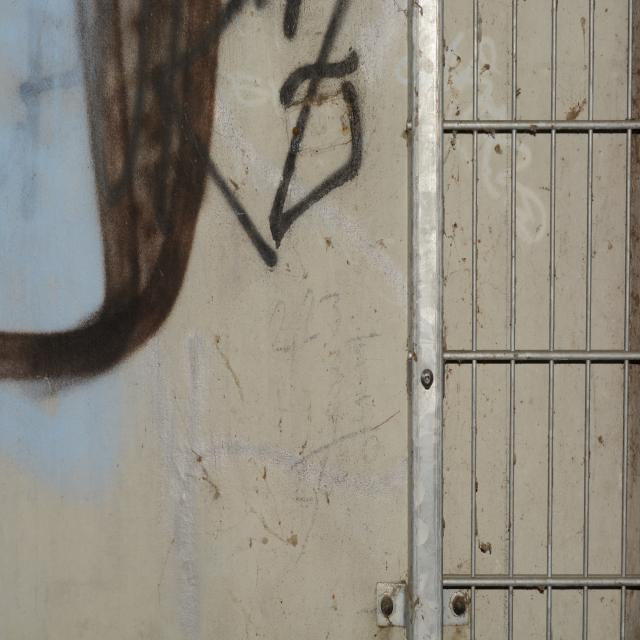corrosion: (453, 597, 468, 614), (380, 597, 392, 616)
